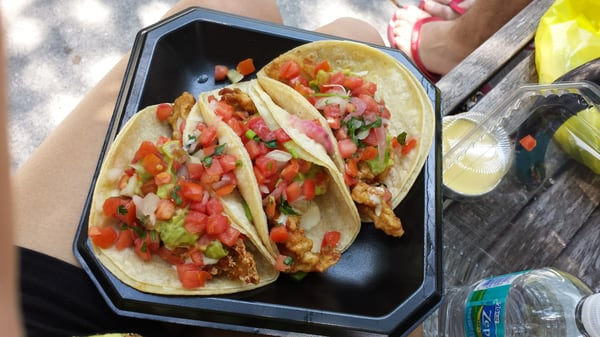burger: (197, 77, 363, 277)
